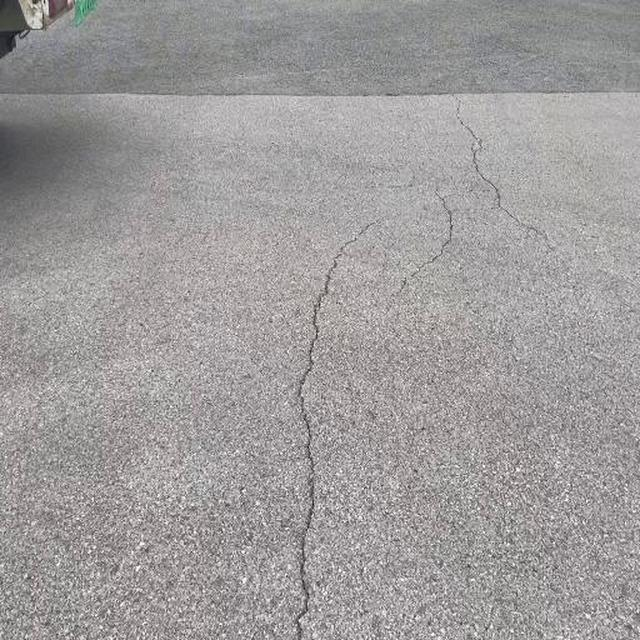Melintang: (3, 77, 640, 110)
Memanjang: (284, 215, 377, 639), (445, 94, 545, 245)
